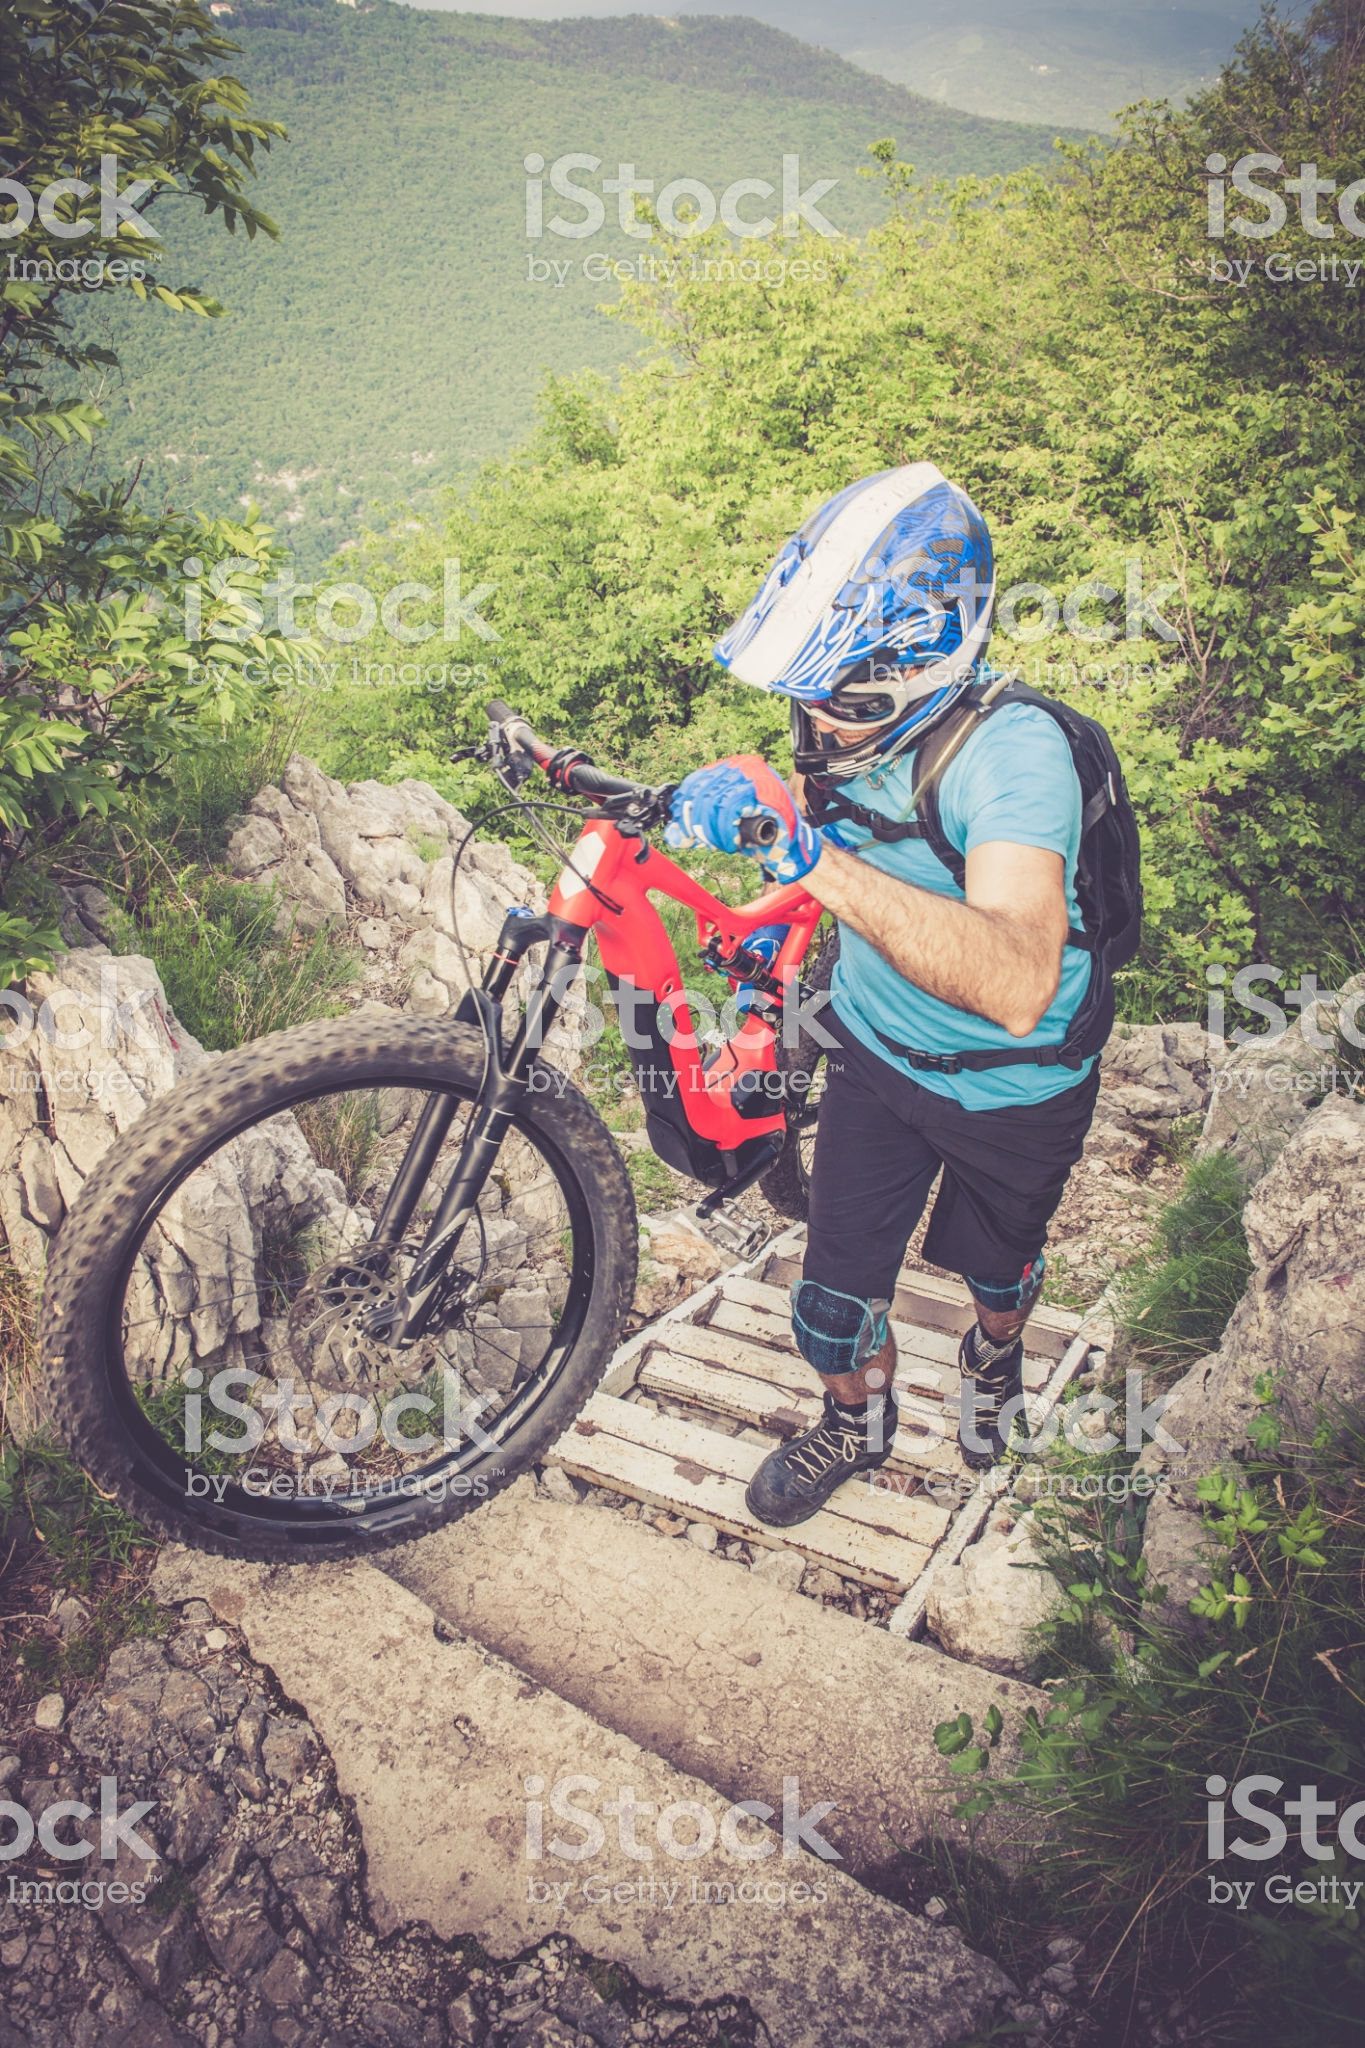helmet: (763, 475, 1028, 719)
